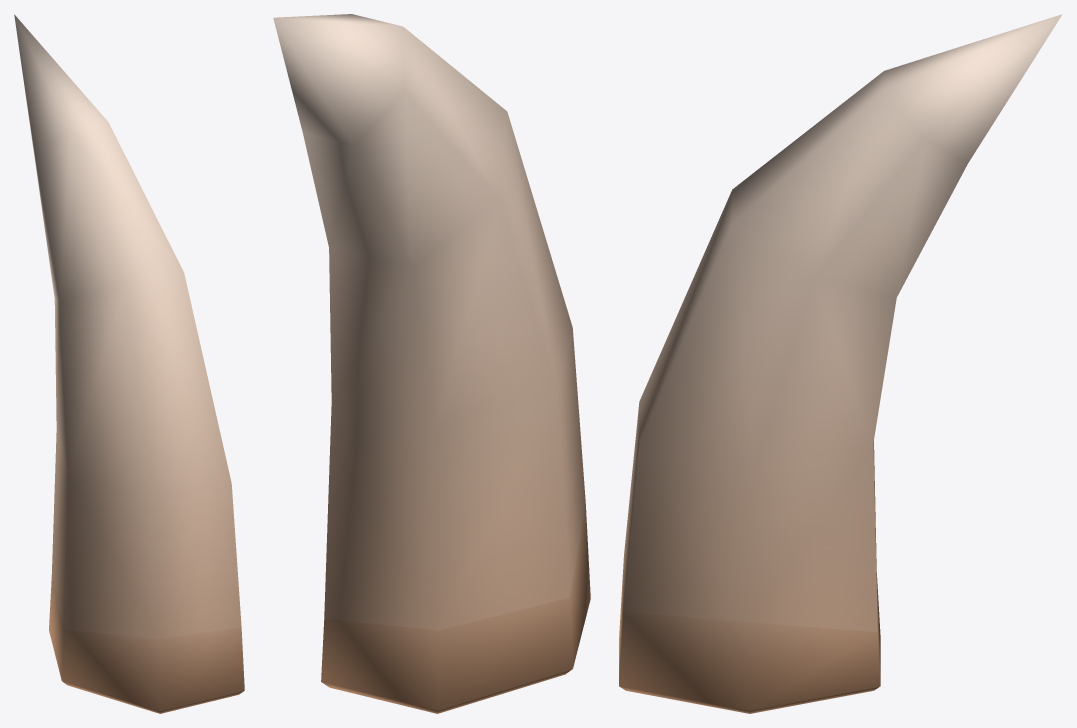
The model's file is Fang.fbx.
The picture shows the model from 3 angles, left to right: view 1: azimuth 30°, elevation 25°; view 2: azimuth 150°, elevation 25°; view 3: azimuth 270°, elevation 25°; orthographic projection. The views are drawn at different scales.
Visible parts, largest first — view 1: Fang; view 2: Fang; view 3: Fang.
Boxes of the visible parts, x1,y1,x2,y2 form: Fang: (14, 14, 244, 713); Fang: (273, 14, 590, 713); Fang: (619, 14, 1062, 713).
Bounding box in the file's own units: 2.83 × 8.83 × 5.43.
